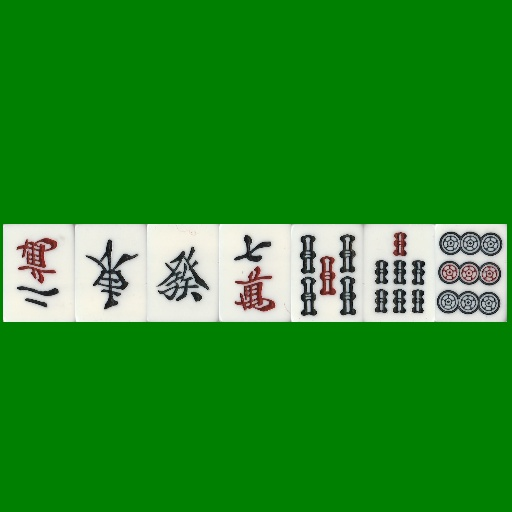2m: (3, 224, 75, 322)
5s: (291, 224, 363, 322)
7m: (219, 224, 291, 322)
7s: (363, 224, 435, 322)
9p: (435, 224, 507, 322)
east: (75, 224, 147, 322)
hatsu: (147, 224, 219, 322)
